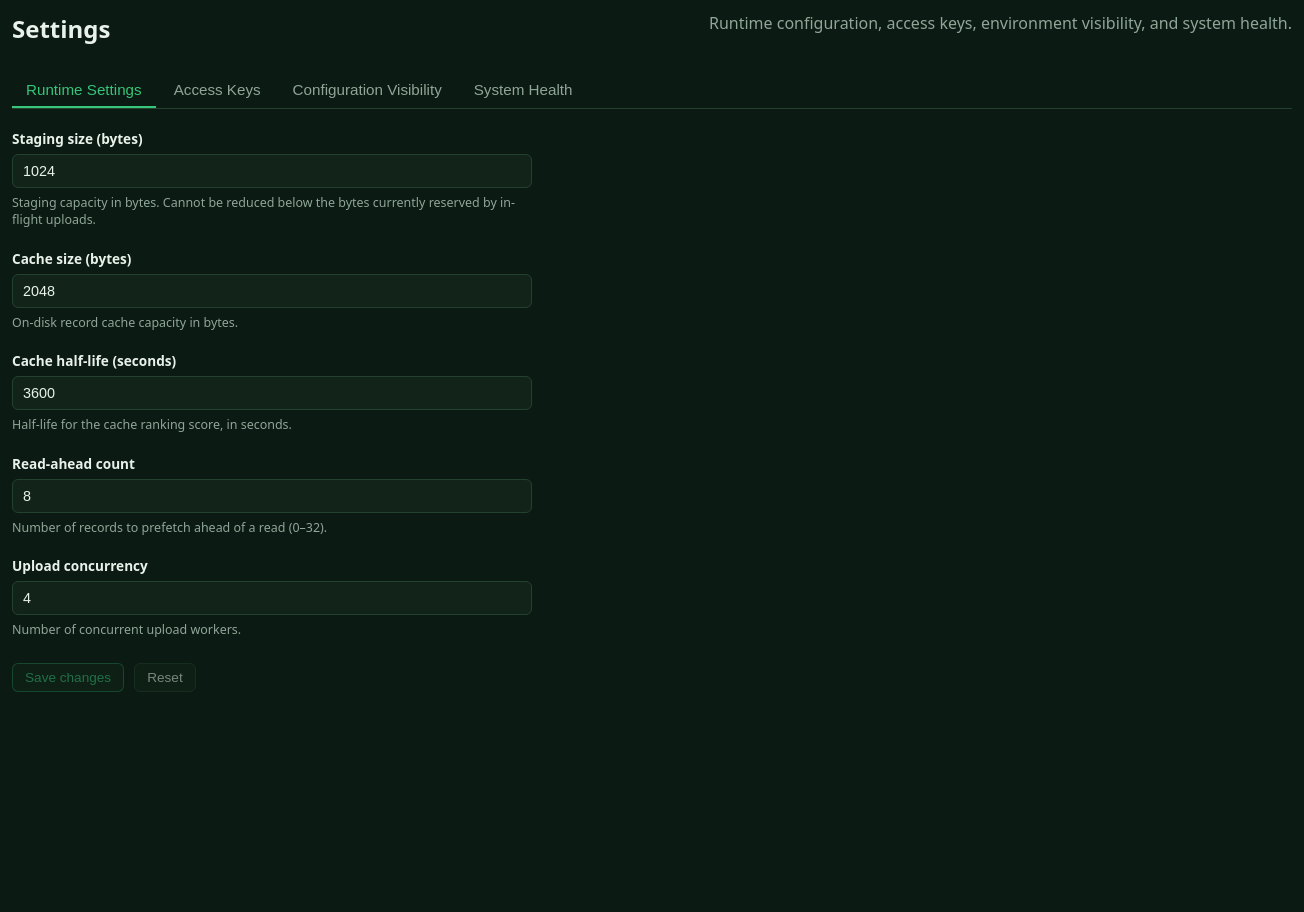
Test: Runtime Settings panel behaviour › shows an unsaved-changes indicator and enables submit + discard when edited (Req 4.4)
Expected: the button "Save changes" is disabled, [12,663,124,692]
Expected: the button "Reset" is disabled, [134,663,196,692]
Note: Edit a field.
Replace the text in the number field labelled "Cache size (bytes)" with "4096" at (272, 291), box [12,274,532,308]
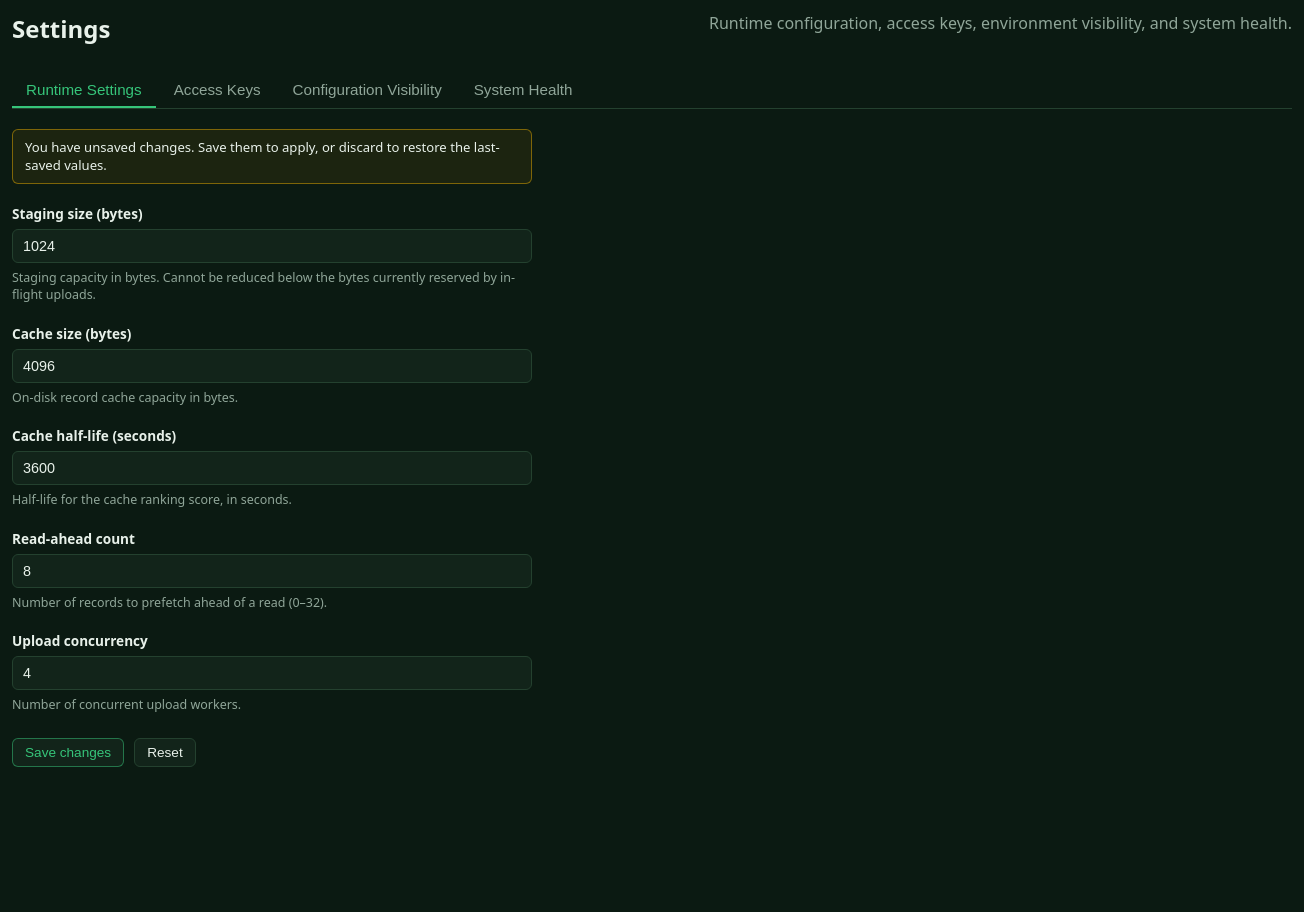
Now the message with test id "unsaved-indicator" is shown, box [12,129,532,184]
Now the message with test id "unsaved-indicator" shows "unsaved changes", box [25,138,500,174]
Now the button "Save changes" is enabled, box [12,738,124,767]
